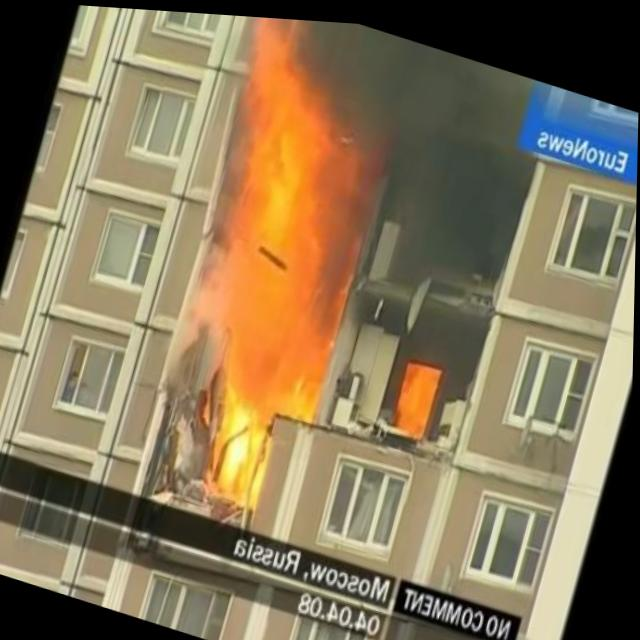fire: (150, 86, 391, 509), (222, 12, 302, 130), (388, 351, 441, 437)
